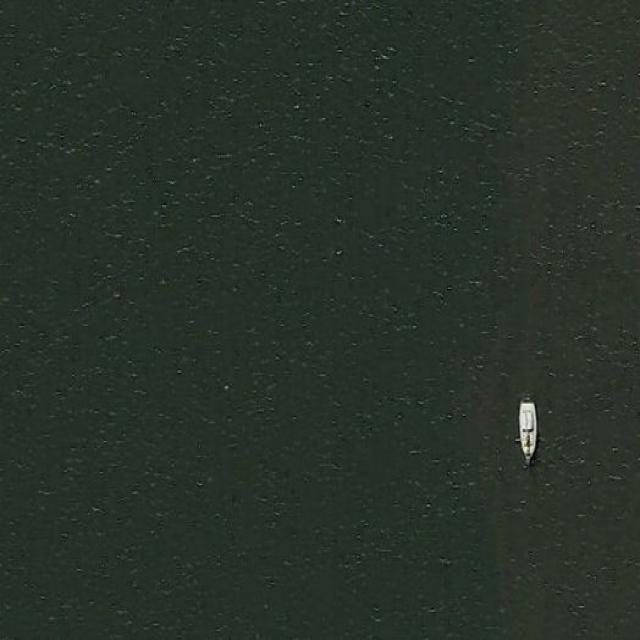ship: (516, 392, 538, 460)
